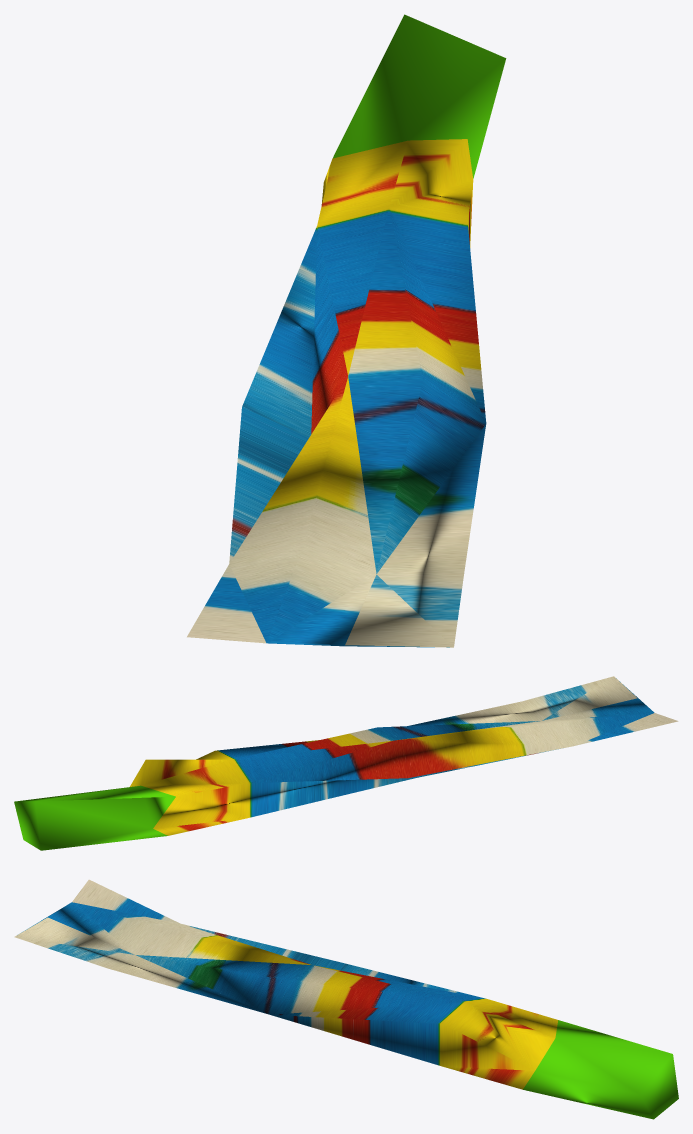
File: tuyp bong bong.fbx
3 renders of one model, top to bottom at view 1: azimuth 30°, elevation 25°; view 2: azimuth 150°, elevation 25°; view 3: azimuth 270°, elevation 25°, orthographic. The views are drawn at different scales.
Parts seen in each view (by area): view 1: tuyp bong bong; view 2: tuyp bong bong; view 3: tuyp bong bong.
Boxes of the visible parts, box(x1,y1,x2,y2) form: tuyp bong bong: box(187, 14, 506, 647); tuyp bong bong: box(14, 676, 678, 850); tuyp bong bong: box(14, 879, 678, 1119).
Size of the model in its own units: 12.95 by 1.71 by 16.56.
